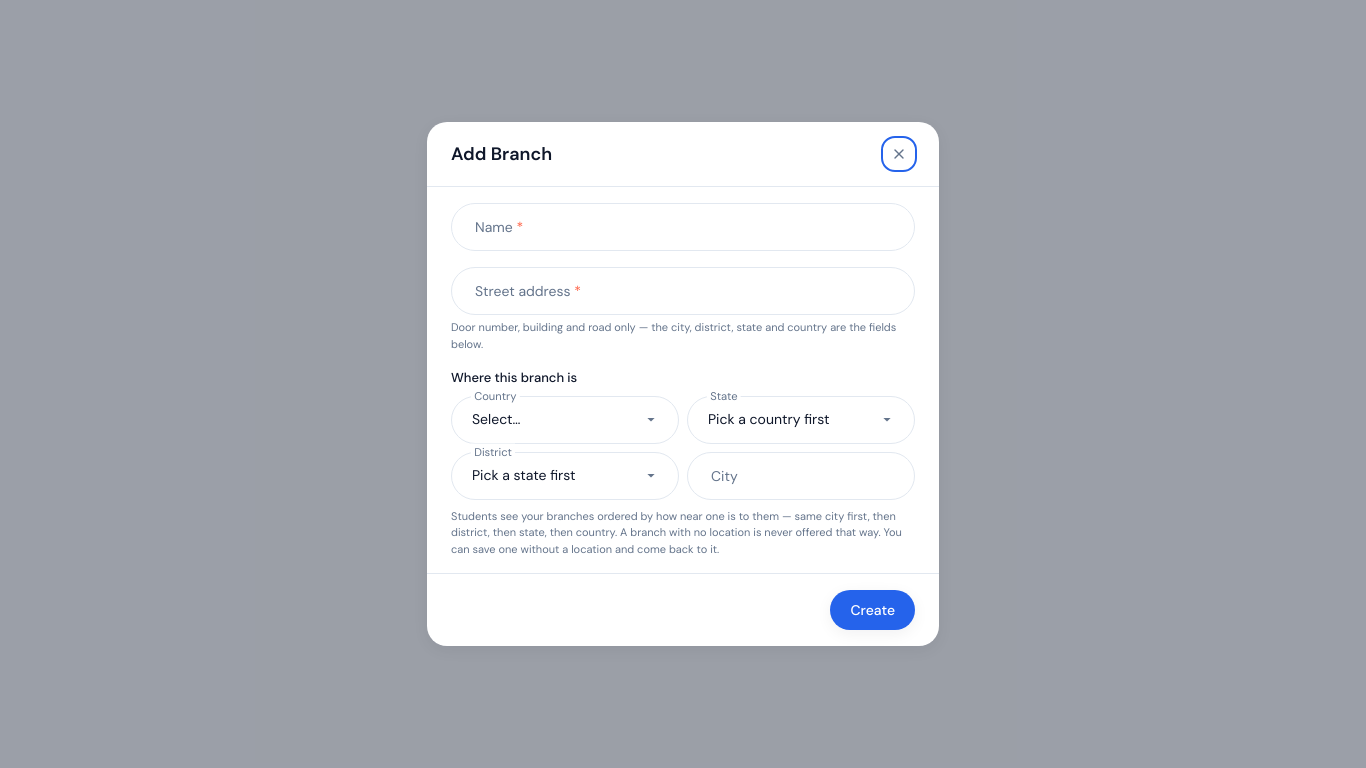
Test case: the branch form: a district is required in India › blocks the save itself instead of letting the server answer 422
Type "Kochi Office" into the field labelled "Name *".
click(683, 227); type("Kochi Office")  # box 451,203 -> 915,251
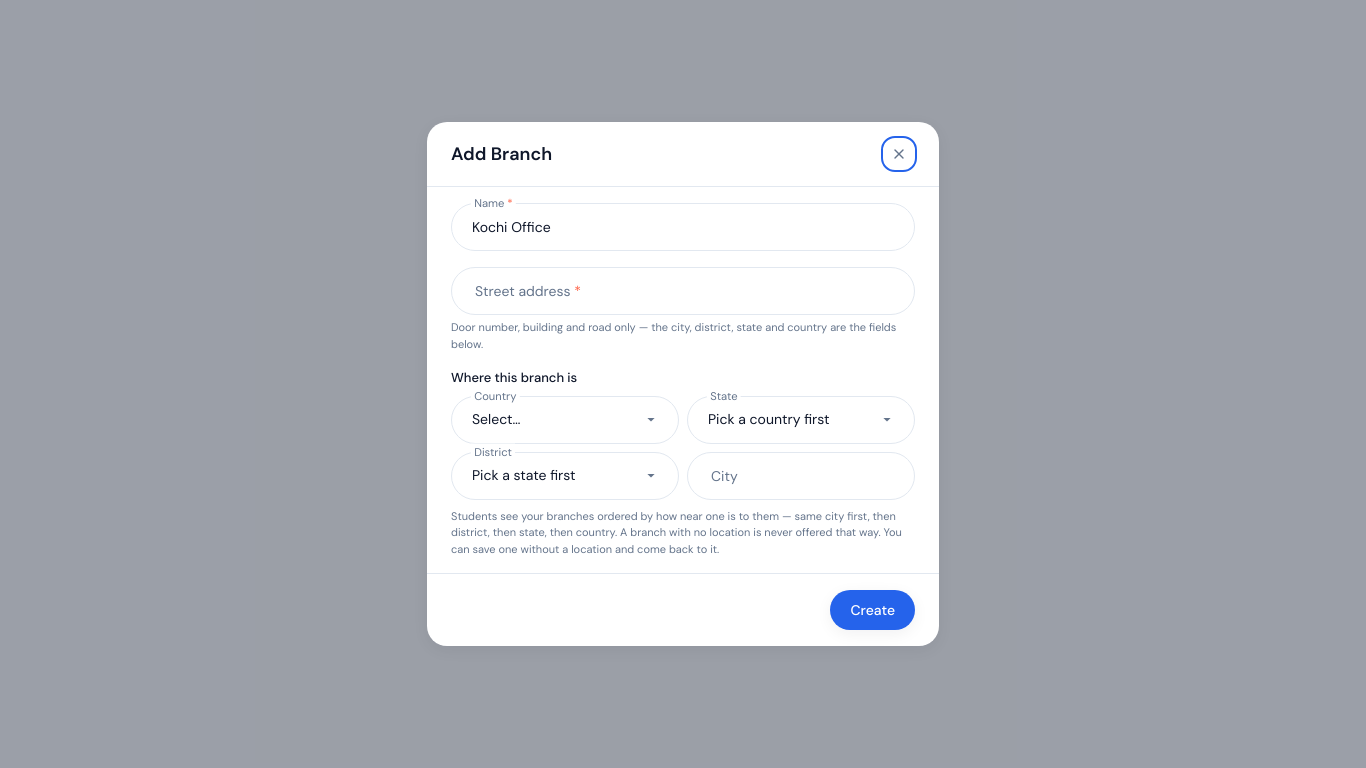
Type "2nd Floor, MG Road" into the field labelled "Street address *".
click(683, 291); type("2nd Floor, MG Road")  # box 451,267 -> 915,315
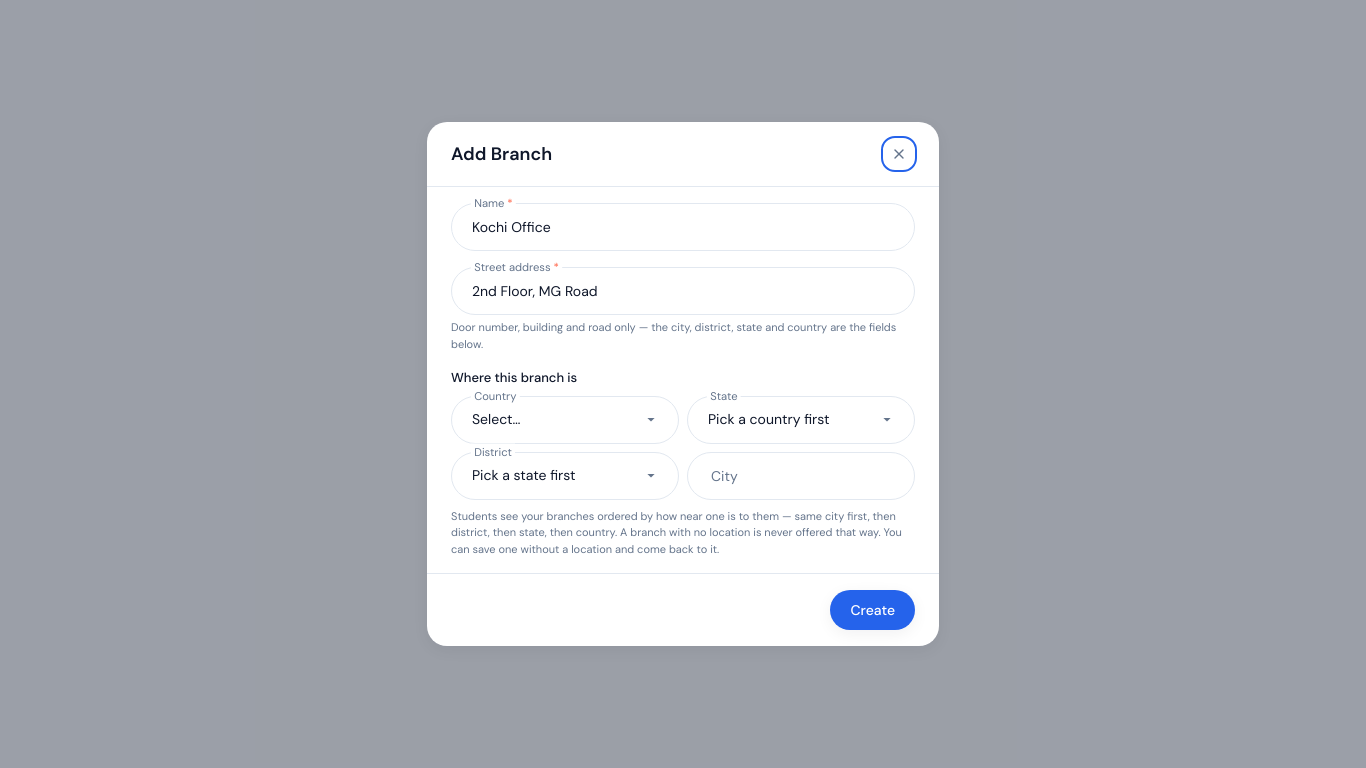
Select "India" in the dropdown labelled "Country" at (565, 420), box 451,396 -> 679,444
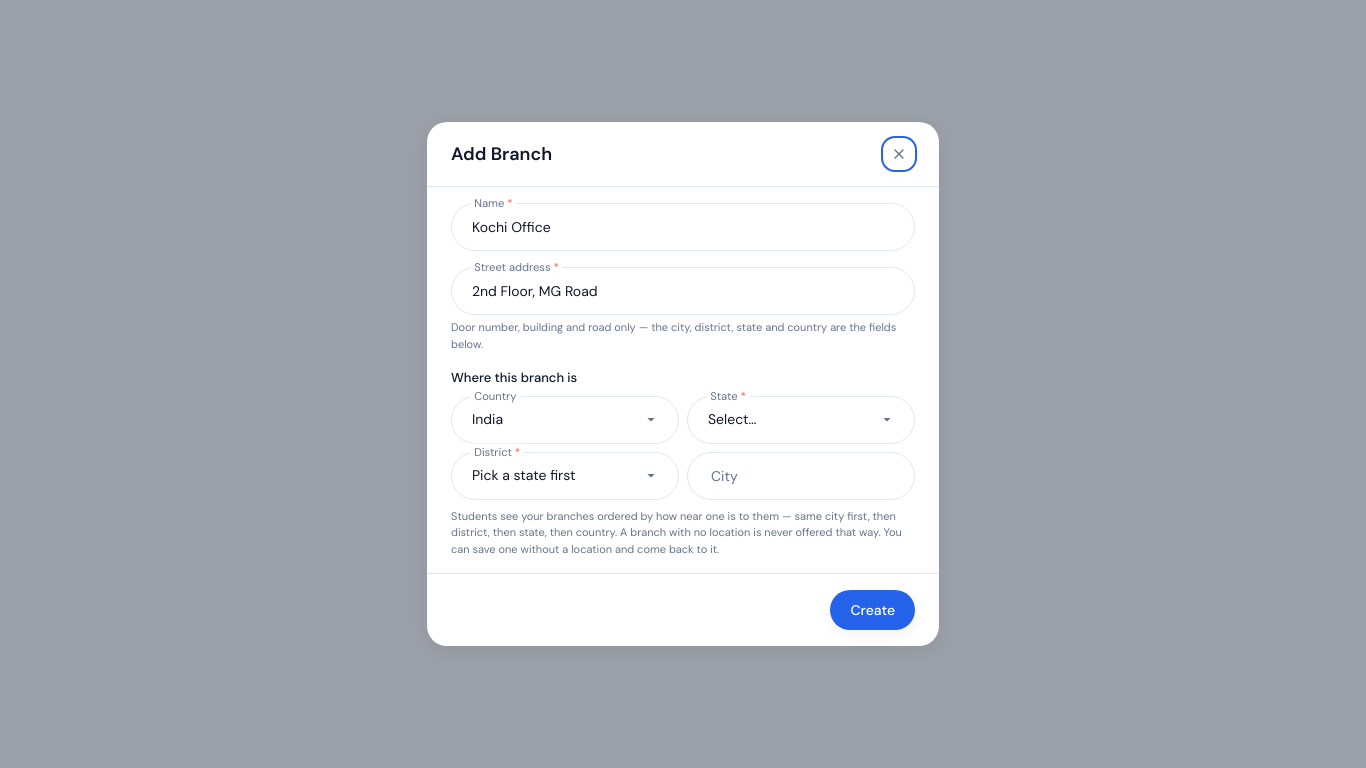
Select "Kerala" in the dropdown labelled "State *" at (801, 420), box 687,396 -> 915,444
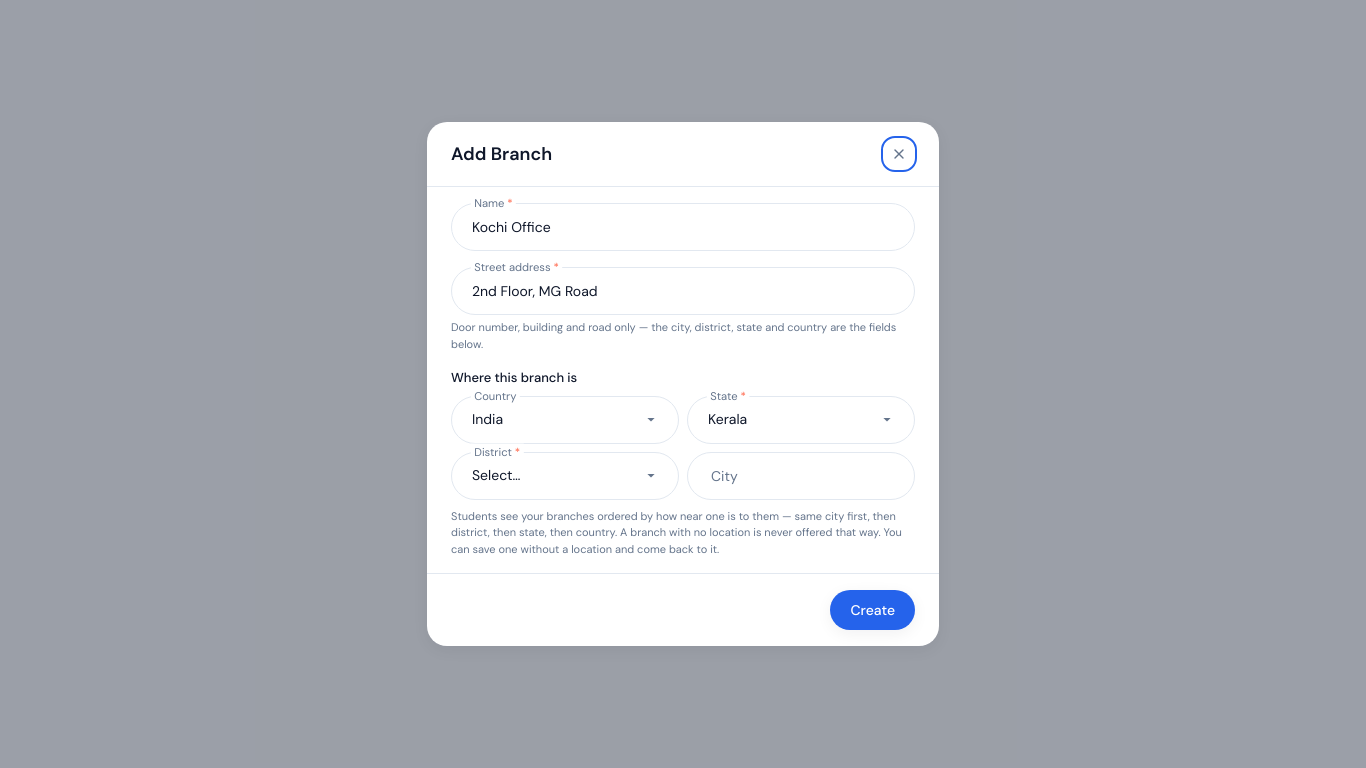
Click the button "Create".
click(873, 610)  # box 830,590 -> 915,630
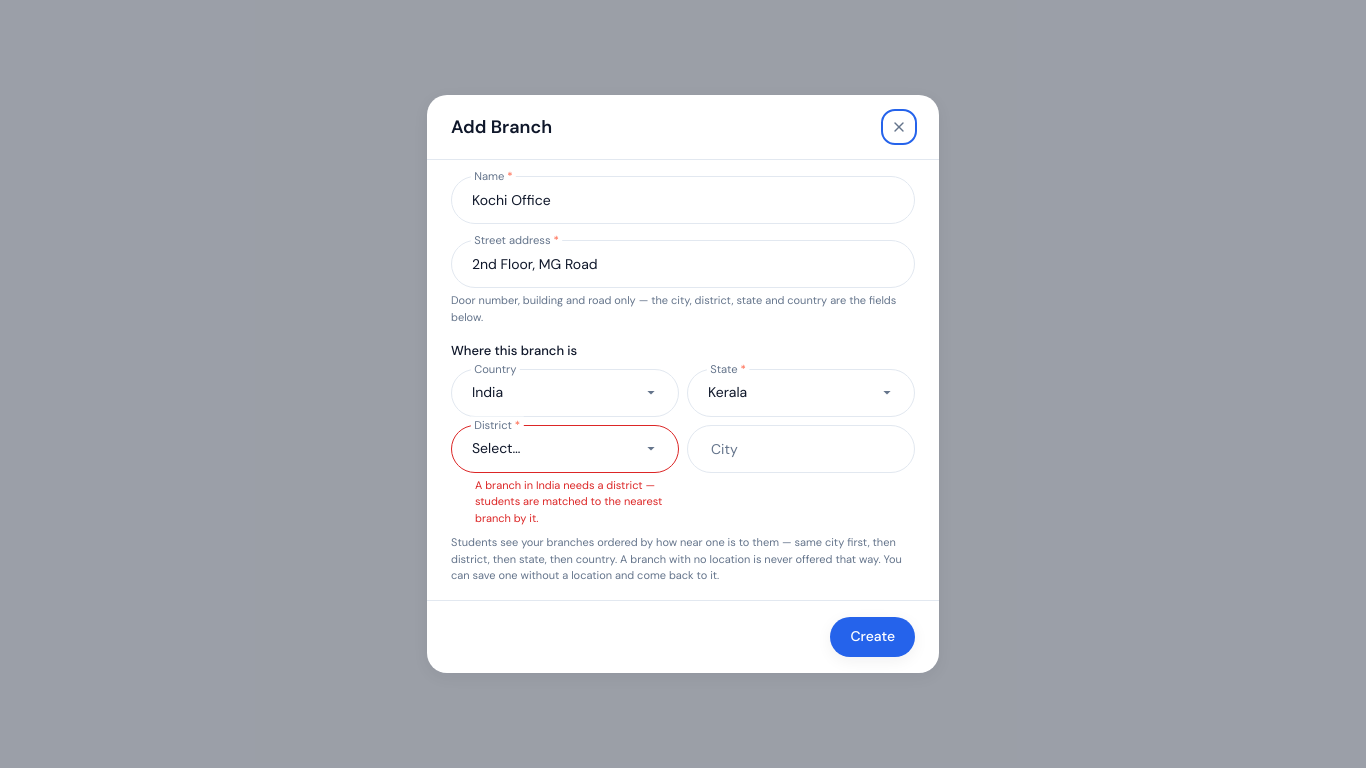
expect the text "A branch in India needs a district — students are matched to the nearest branch by it." is shown: met, box 475,478 -> 662,525
